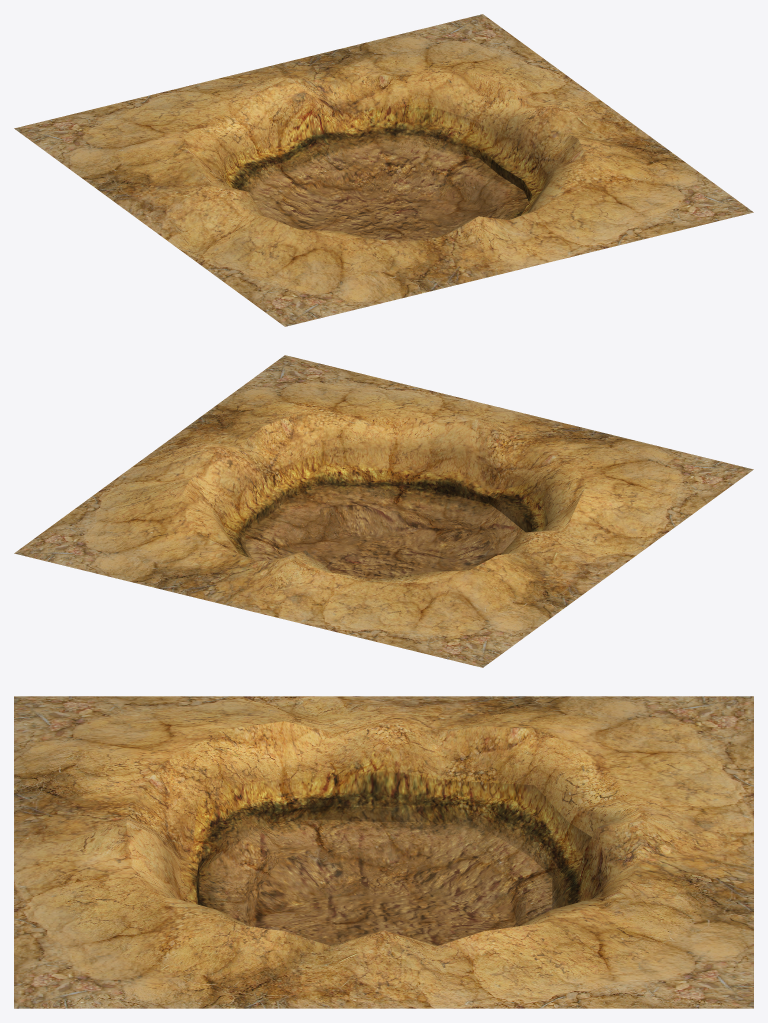
Rendered from Crater_6.fbx.
The picture shows the model from 3 angles, top to bottom: view 1: azimuth 30°, elevation 25°; view 2: azimuth 150°, elevation 25°; view 3: azimuth 270°, elevation 25°; orthographic projection. The views are drawn at different scales.
Parts seen in each view (by area): view 1: Crater_6; view 2: Crater_6; view 3: Crater_6.
Boxes of the visible parts, x1,y1,x2,y2 form: Crater_6: [14, 14, 753, 326]; Crater_6: [14, 355, 753, 667]; Crater_6: [14, 696, 753, 1008].
Bounding box in the file's own units: 599 × 91 × 600.
